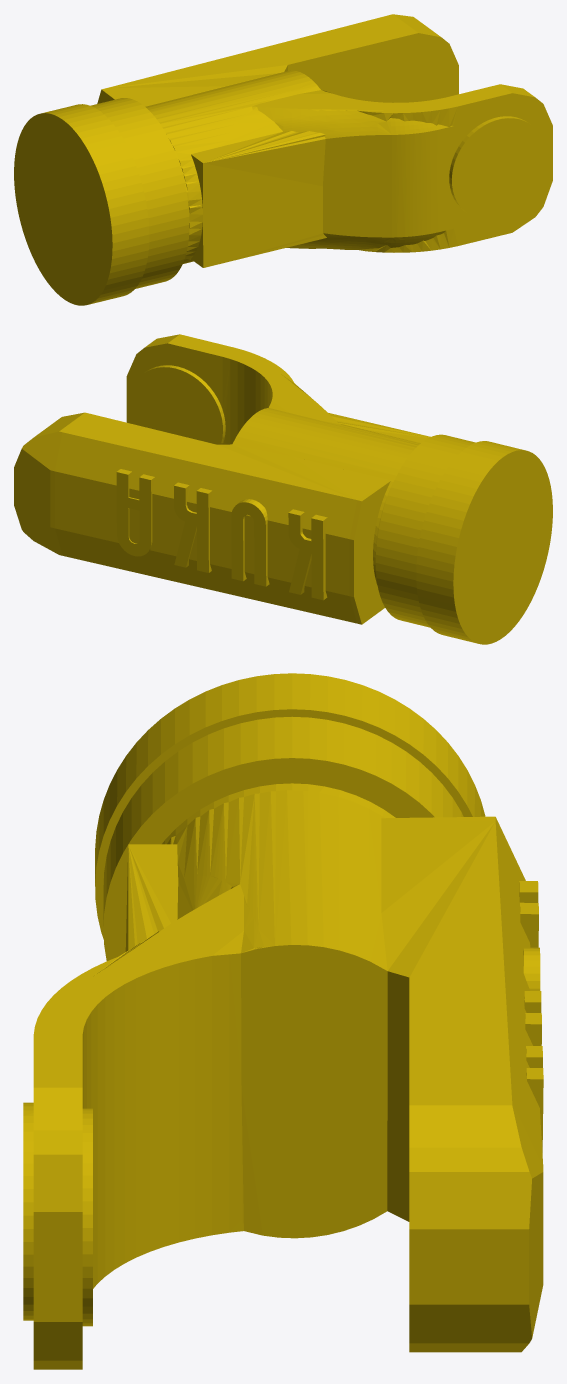
Rendered from KR60Arm_link4.dae.
3 views of the same model, one above another, from view 1: azimuth 30°, elevation 25°; view 2: azimuth 150°, elevation 25°; view 3: azimuth 270°, elevation 25° (orthographic). The views are drawn at different scales.
Parts seen in each view (by area): view 1: kr60_5; view 2: kr60_5; view 3: kr60_5.
Boxes of the visible parts, left/top/right/bottom form: kr60_5: left=14, top=14, right=552, bottom=305; kr60_5: left=14, top=334, right=552, bottom=644; kr60_5: left=23, top=673, right=543, bottom=1369.
Size of the model in its own units: 0.5638 by 0.2988 by 0.2265.
